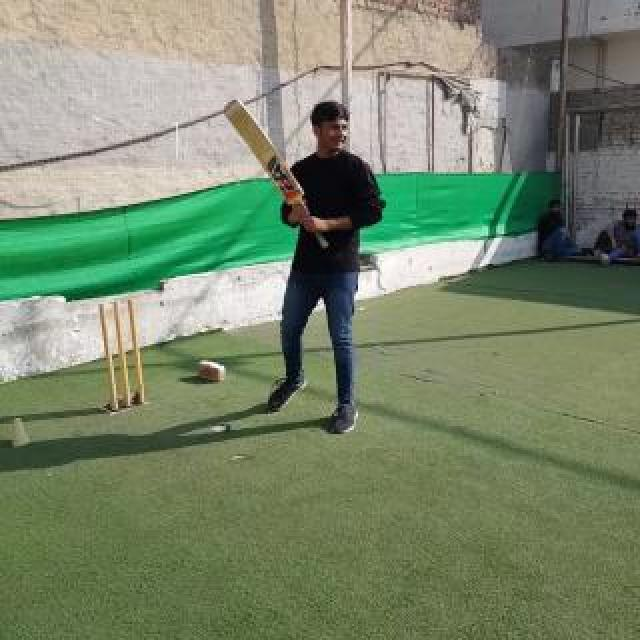bat: (224, 98, 328, 248)
